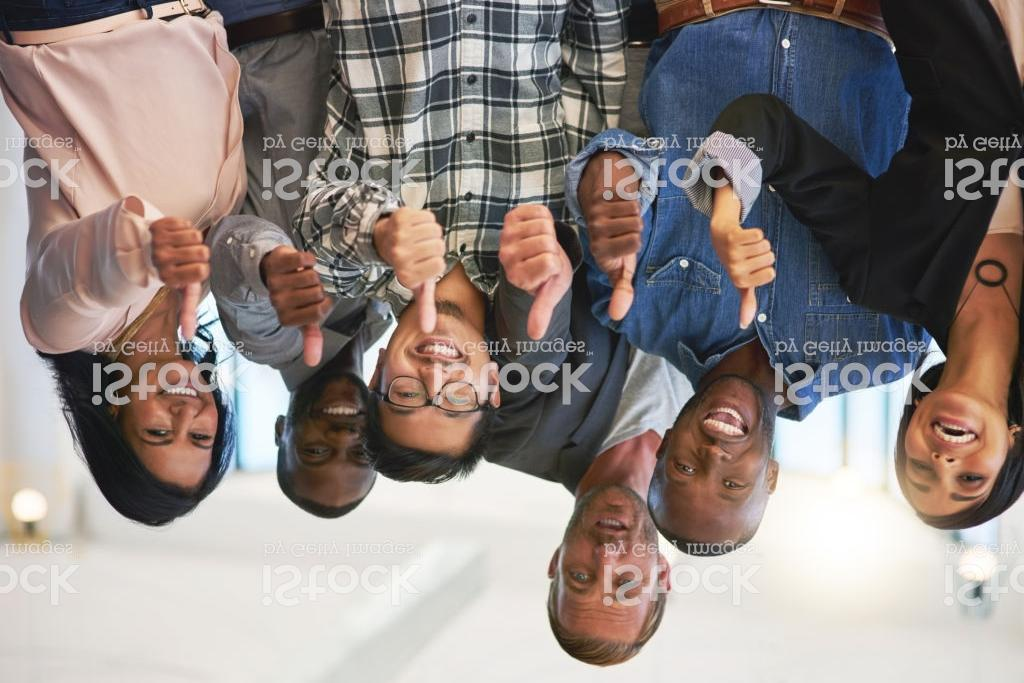thumbsdown: (497, 201, 575, 342), (375, 204, 448, 337), (582, 183, 646, 323), (264, 244, 334, 367), (148, 213, 213, 343), (714, 223, 778, 332)
